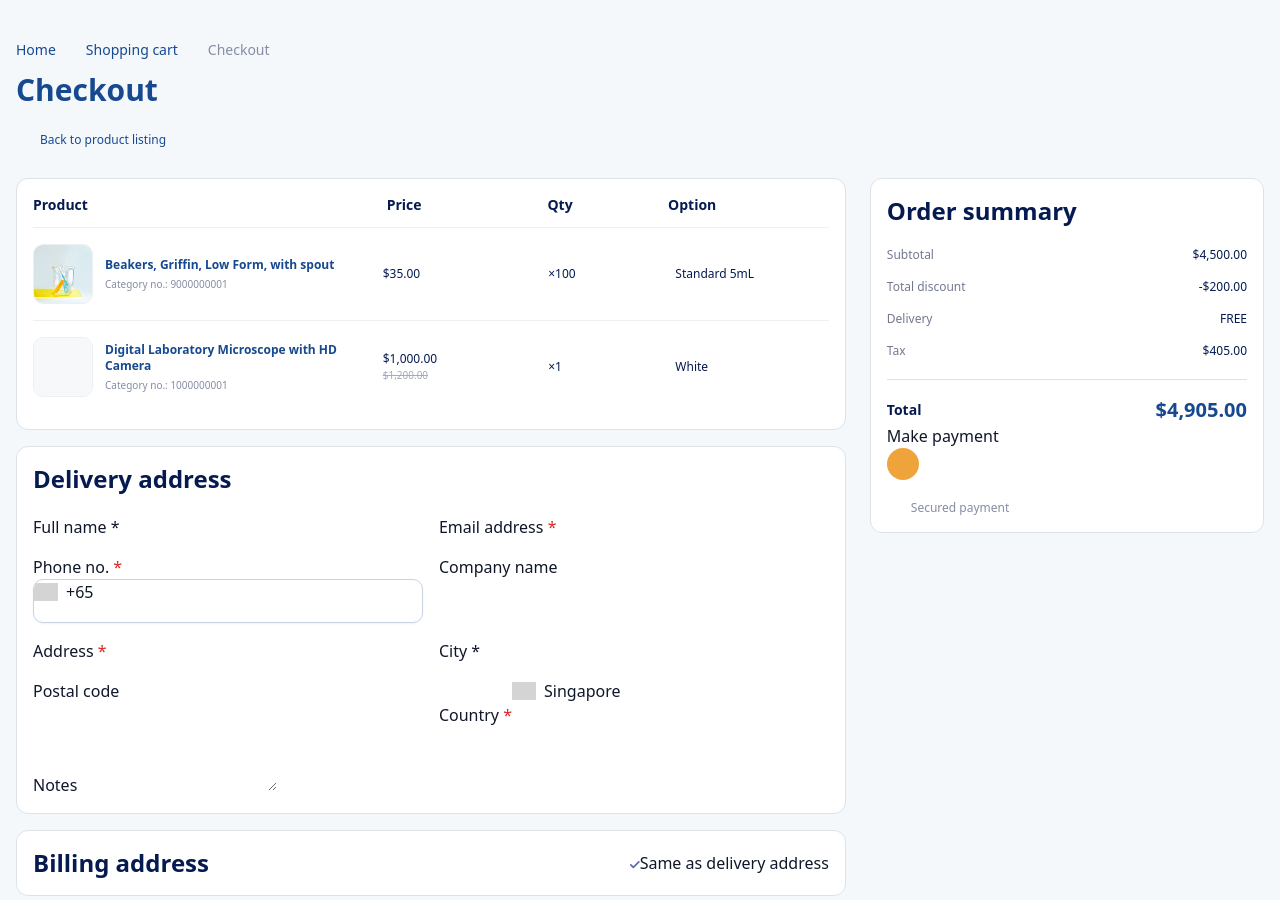
Scenario: Checkout boundaries from the QA catalogue › Checkout postal code optional validates postalCode before preparing payment
expect the button "Make payment" is shown: met, box top-left (887, 424), bottom-right (999, 480)
Type "QA Tester" into the field labelled "Full name *".
click(235, 527); type("QA Tester")  # box top-left (120, 515), bottom-right (350, 539)
Type "qa@example.test" into the field labelled "Email address *".
click(672, 527); type("qa@example.test")  # box top-left (556, 515), bottom-right (788, 539)
Type "88009900" into the field labelled "Phone no. *".
click(209, 601); type("88009900")  # box top-left (94, 580), bottom-right (324, 622)
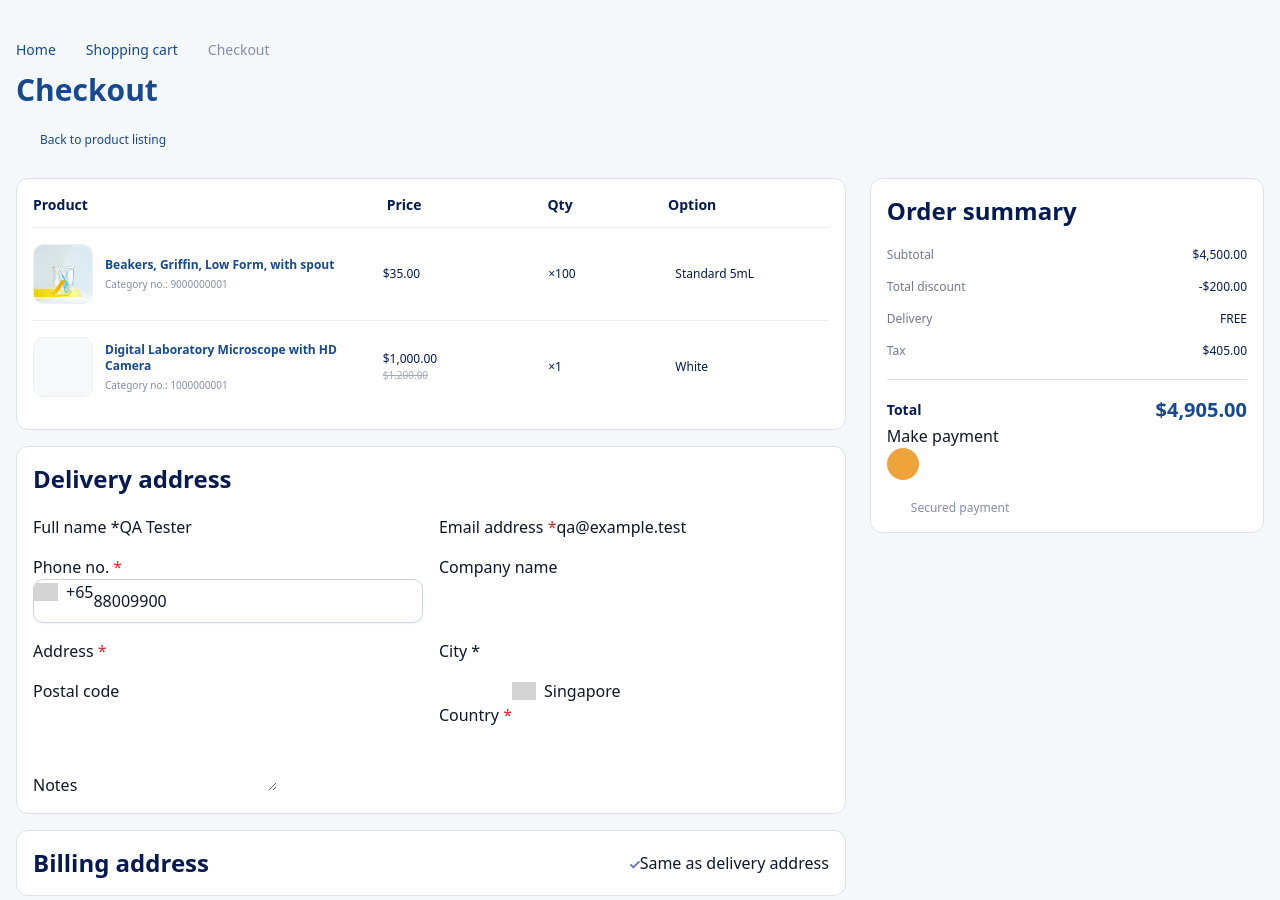
Type "123 Test Street" into the field labelled "Address *".
click(222, 651); type("123 Test Street")  # box top-left (106, 639), bottom-right (338, 663)
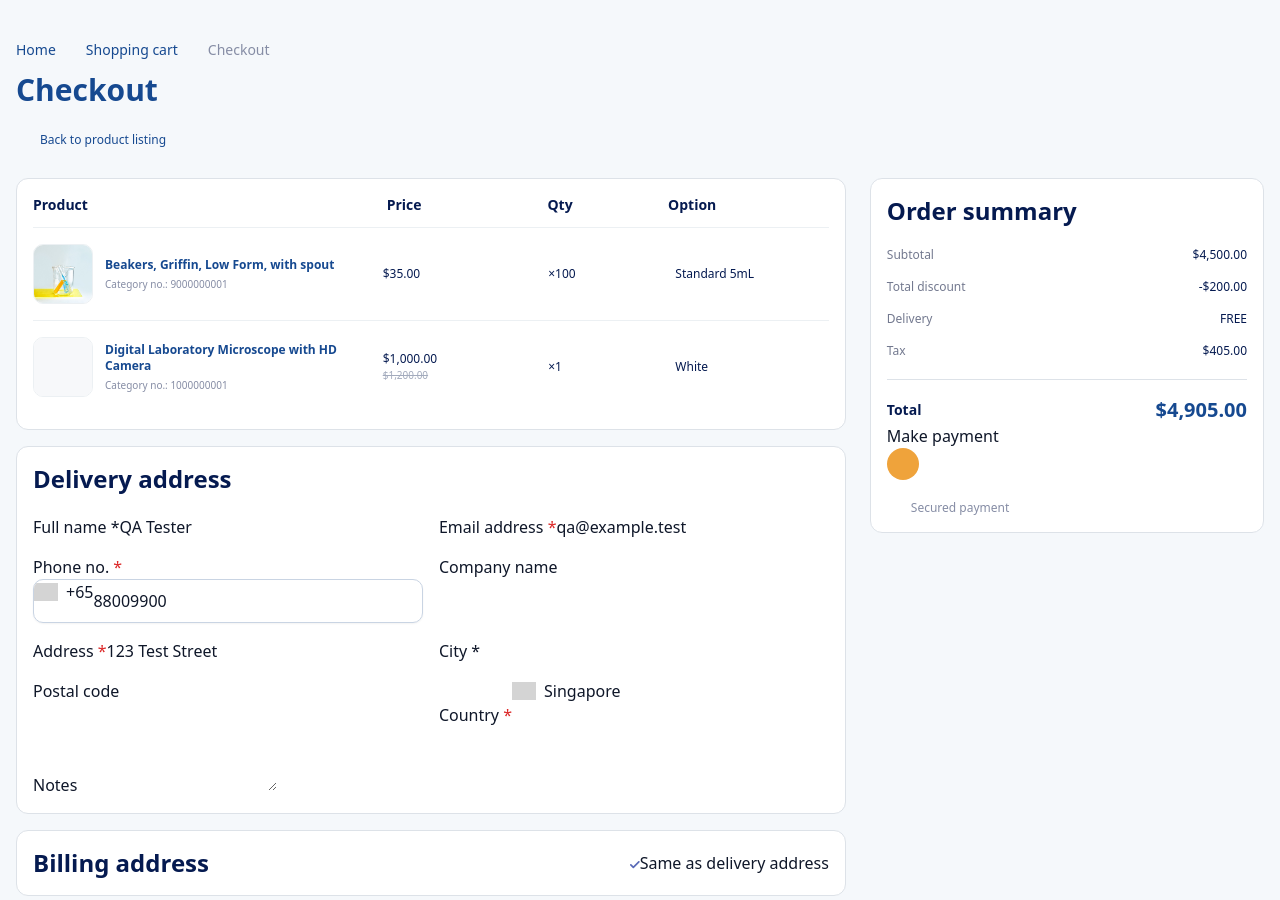
Type "Singapore" into the field labelled "City *".
click(596, 651); type("Singapore")  # box top-left (480, 639), bottom-right (711, 663)
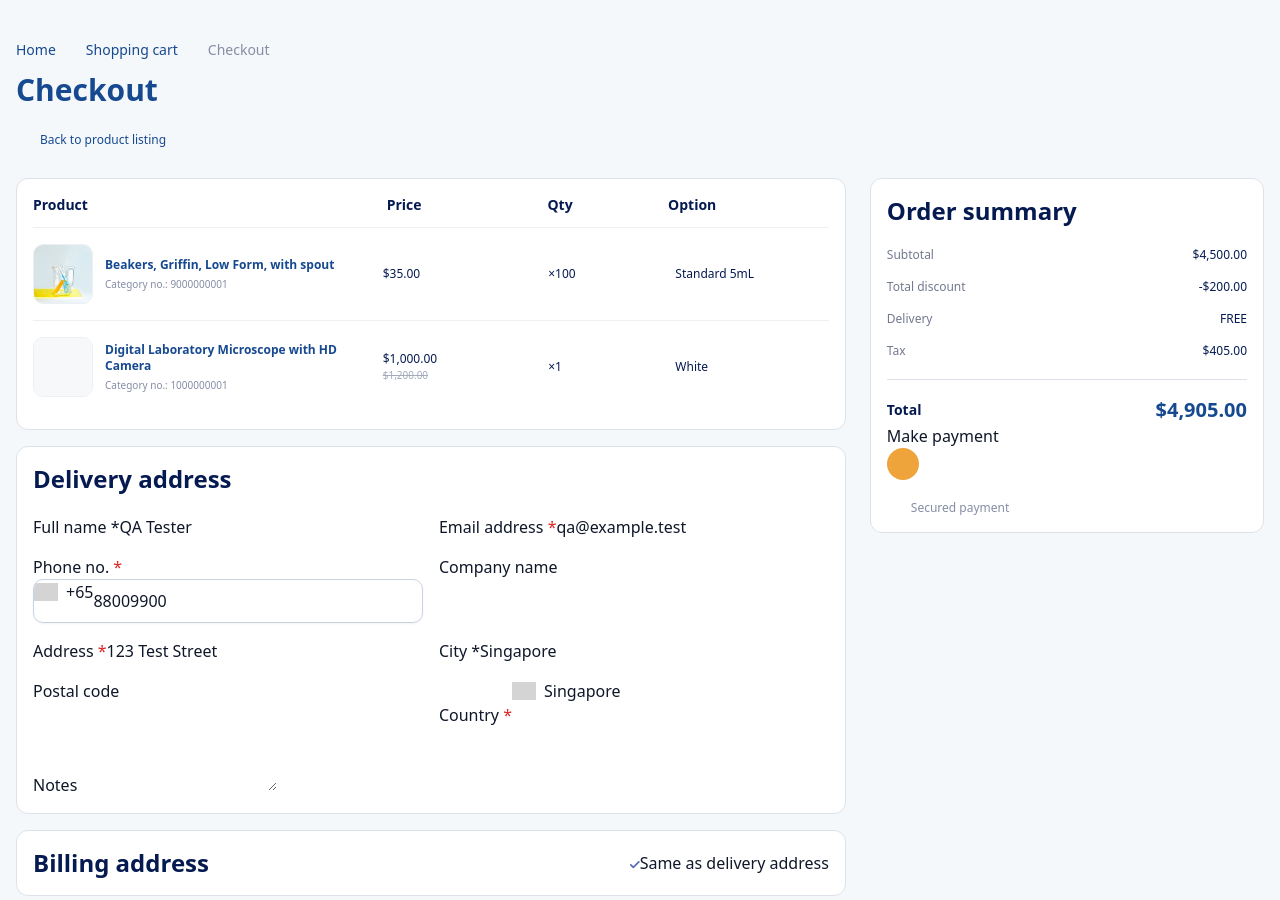
Type "012345" into the field labelled "Postal code".
click(235, 691); type("012345")  # box top-left (119, 679), bottom-right (350, 703)
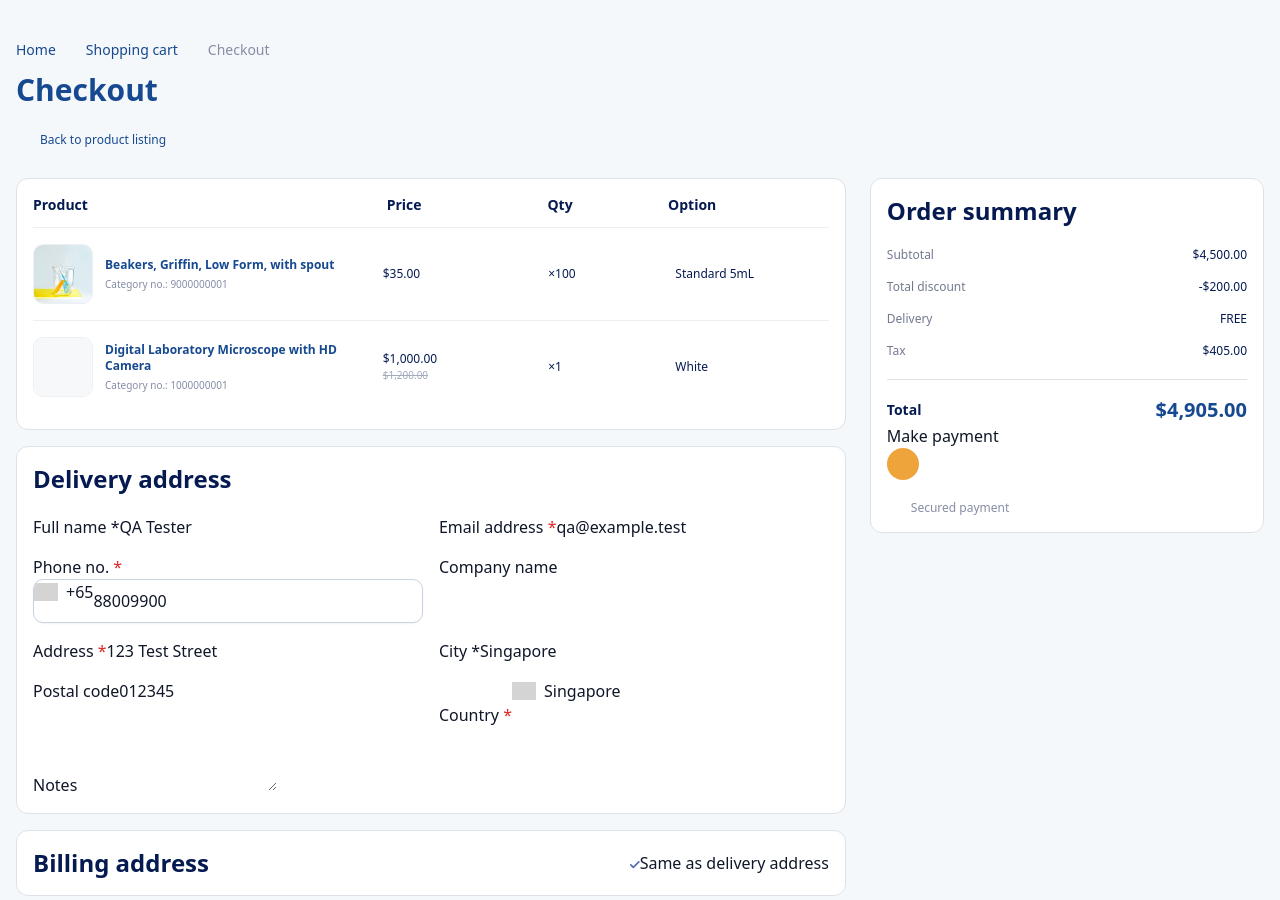
Clear the field labelled "Postal code" at (235,691), box top-left (119, 679), bottom-right (350, 703)
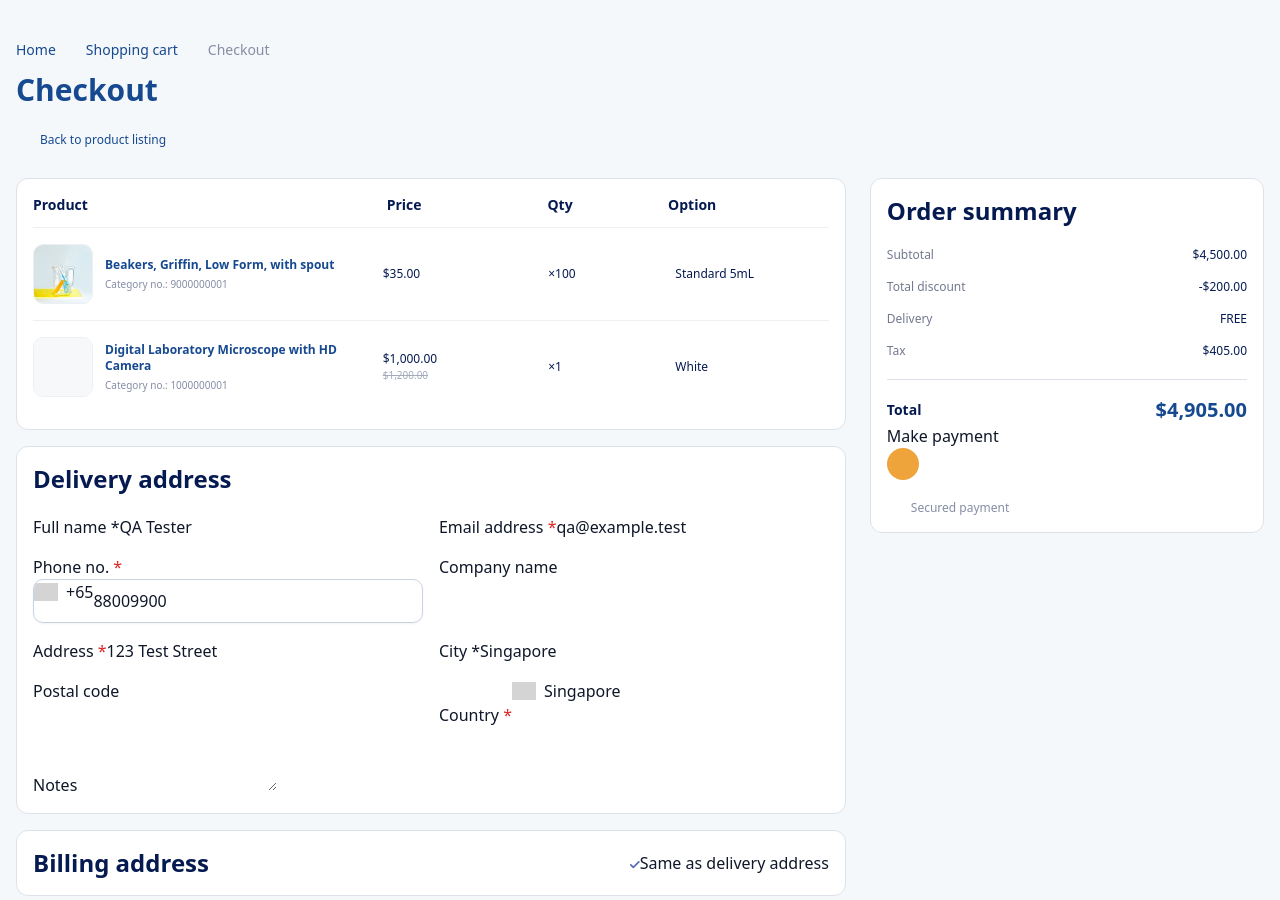
Click the button "Make payment".
click(943, 452)  # box top-left (887, 424), bottom-right (999, 480)
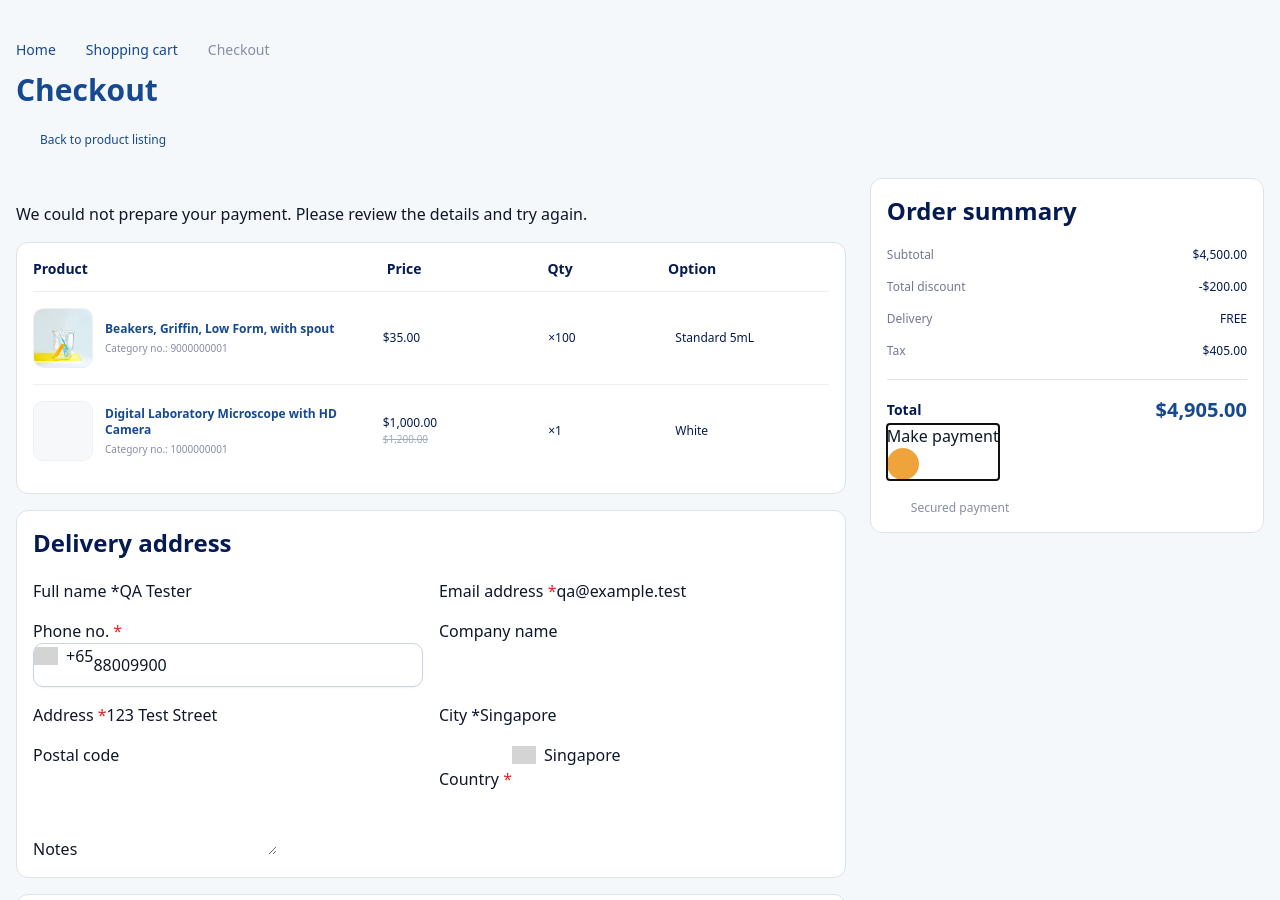
expect the message shows "We could not prepare your payment.": met, box top-left (16, 203), bottom-right (587, 225)
